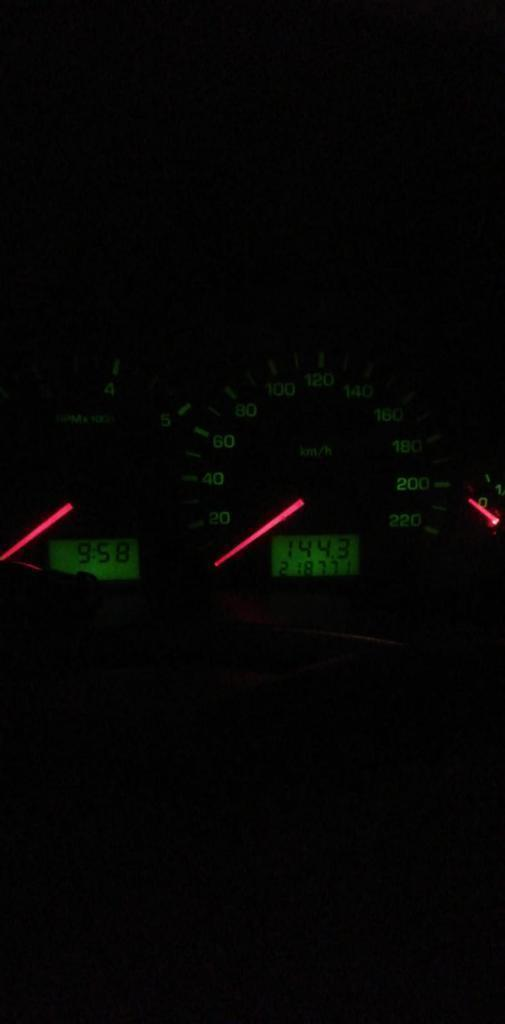,: (330, 553, 335, 559)
1: (285, 539, 294, 557), (295, 560, 303, 576), (344, 559, 352, 574)
2: (277, 560, 290, 577)
3: (336, 537, 349, 558)
4: (316, 537, 330, 558), (297, 538, 311, 558)
7: (316, 559, 326, 576), (329, 559, 338, 577)
8: (304, 560, 313, 576)
odometer: (266, 530, 364, 581)
